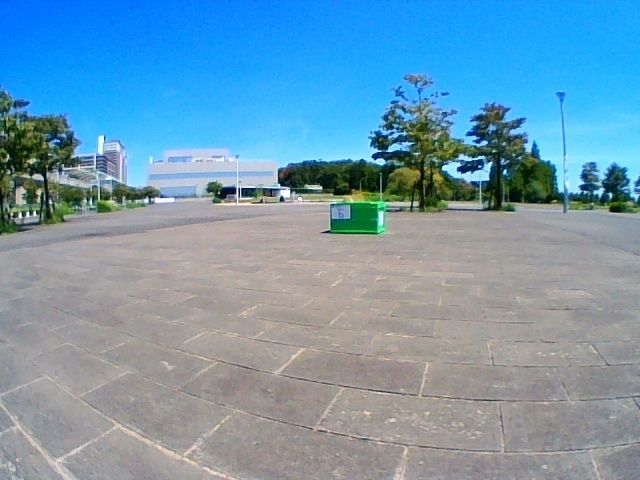green_box: (331, 204, 384, 232)
tag_b: (332, 206, 348, 219)
